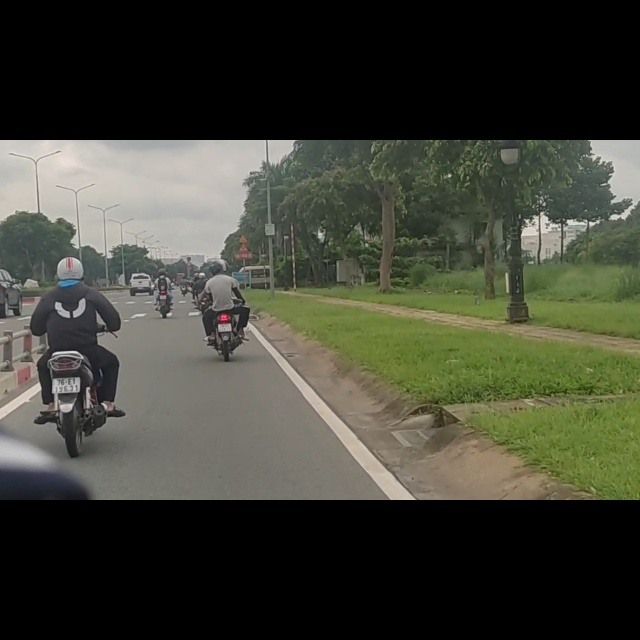bien_nguy_hiem: (239, 184, 249, 199), (239, 167, 248, 183), (186, 206, 192, 216)
